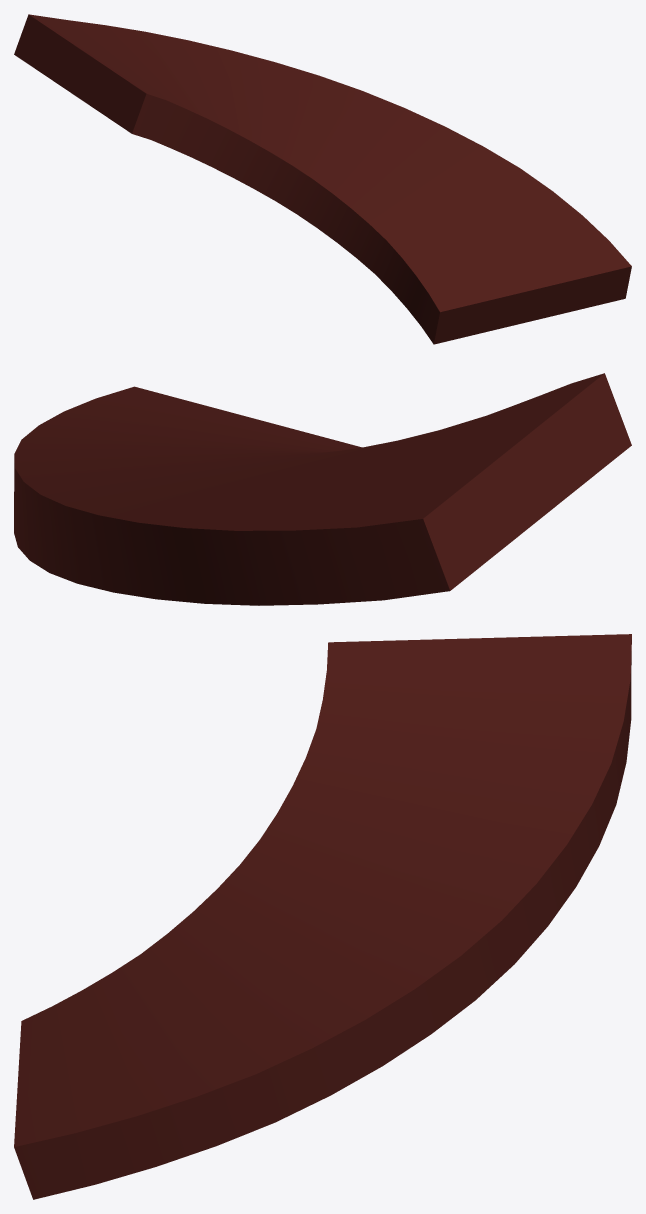
The model's file is vox_road_bendlongtwistleft.fbx.
The picture shows the model from 3 angles, top to bottom: view 1: azimuth 30°, elevation 25°; view 2: azimuth 150°, elevation 25°; view 3: azimuth 270°, elevation 25°; orthographic projection. The views are drawn at different scales.
Parts seen in each view (by area): view 1: vox_road_bendlongtwistleft; view 2: vox_road_bendlongtwistleft; view 3: vox_road_bendlongtwistleft.
Part boxes in pixels (x1,y1,x2,y2): vox_road_bendlongtwistleft: [14, 14, 631, 344]; vox_road_bendlongtwistleft: [14, 373, 631, 605]; vox_road_bendlongtwistleft: [14, 634, 631, 1199].
Bounding box in the file's own units: 134 × 71.68 × 130.
